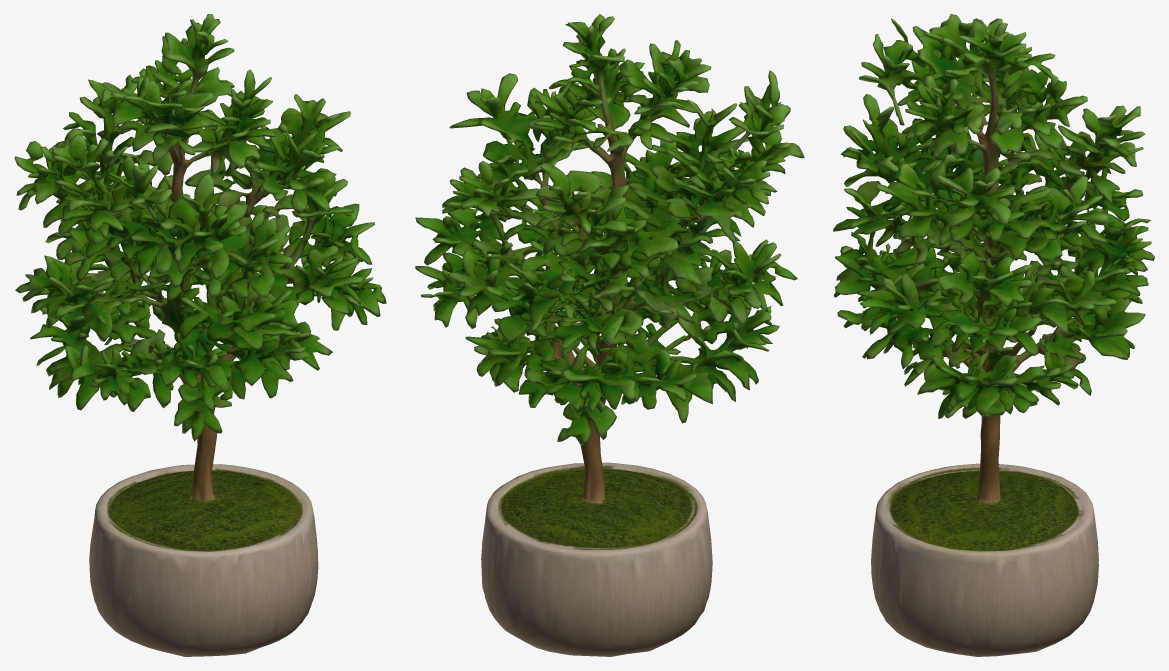
File: plant-table-ready.glb
The picture shows the model from 3 angles, left to right: view 1: azimuth 30°, elevation 25°; view 2: azimuth 150°, elevation 25°; view 3: azimuth 270°, elevation 25°; orthographic projection.
Visible parts, largest first — view 1: potted_plant; view 2: potted_plant; view 3: potted_plant.
Part boxes in pixels (<box>): potted_plant: <box>14,14,386,656</box>; potted_plant: <box>415,14,804,656</box>; potted_plant: <box>833,14,1154,656</box>.
Bounding box in the file's own units: 0.2734 × 0.45 × 0.2194.
Materials: 1 (1 with a texture image).
